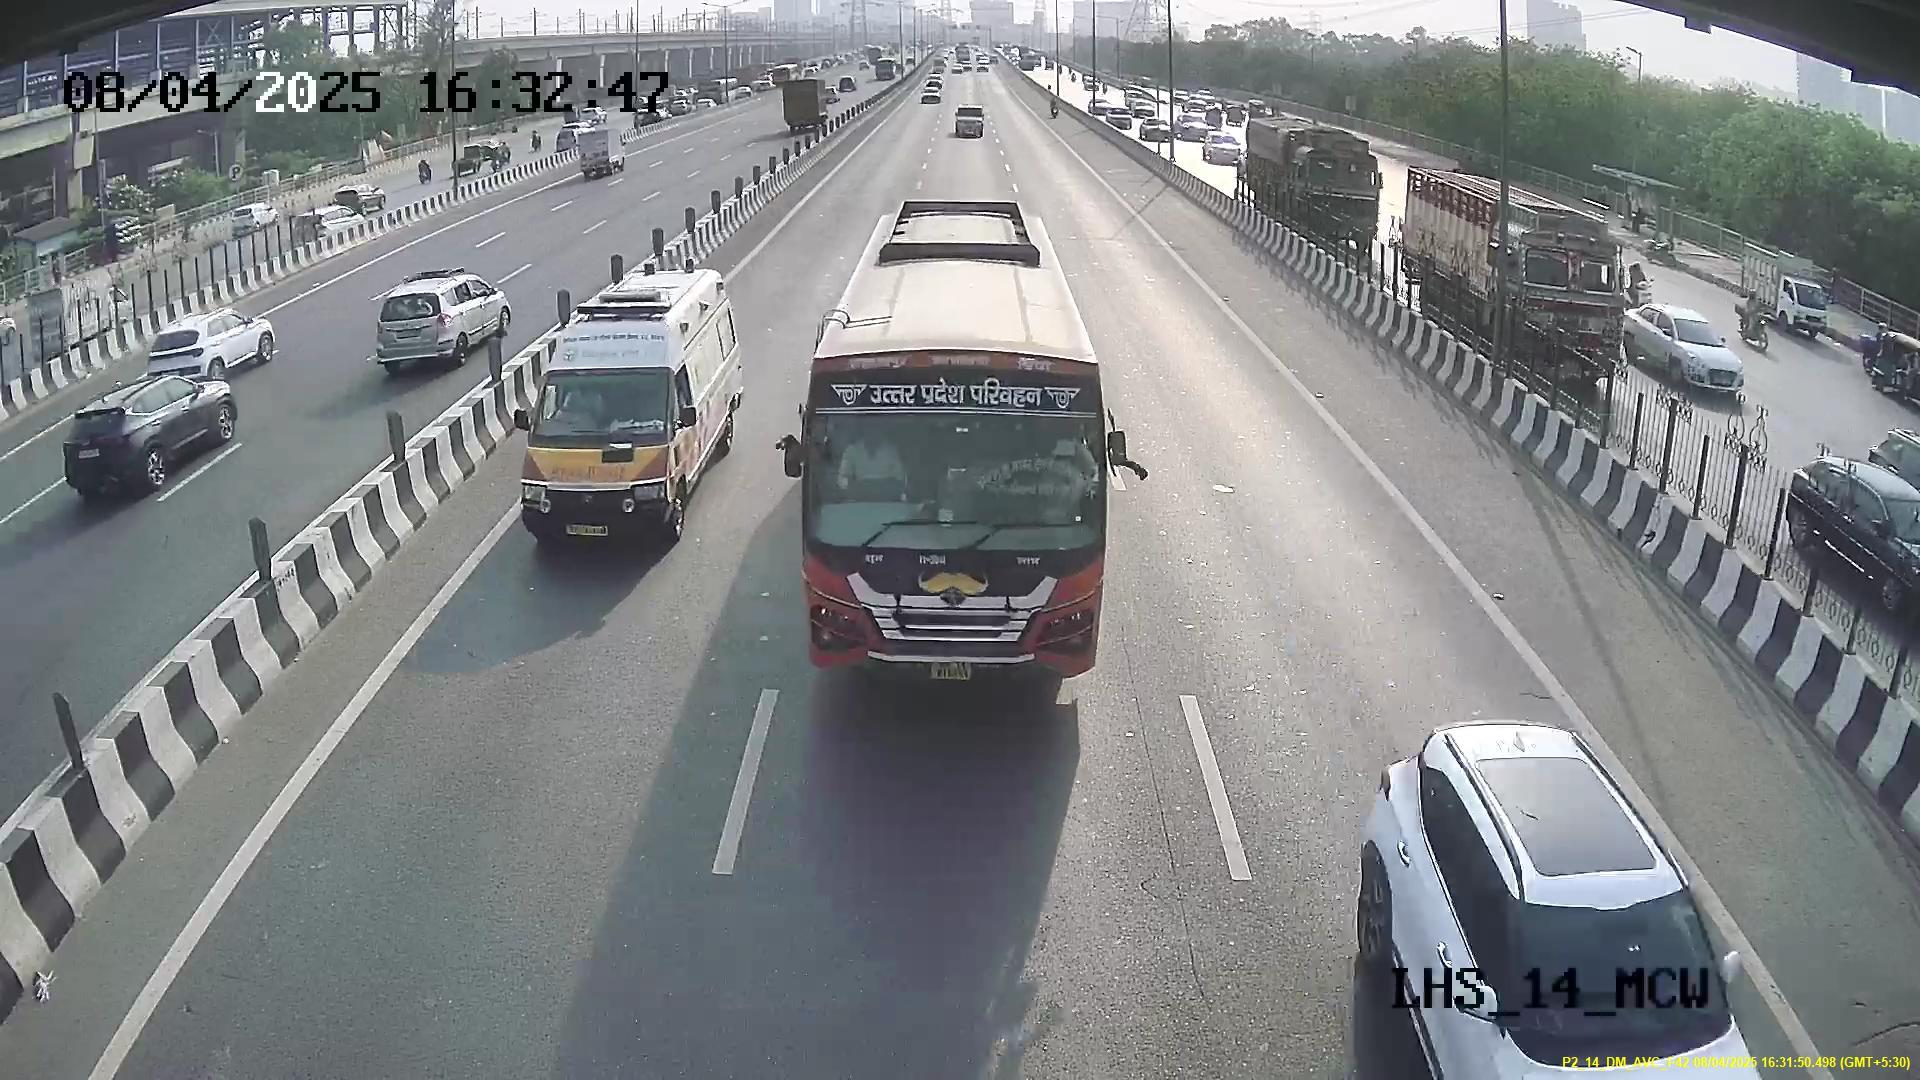bus: (785, 313, 1127, 698)
car: (516, 323, 703, 547)
